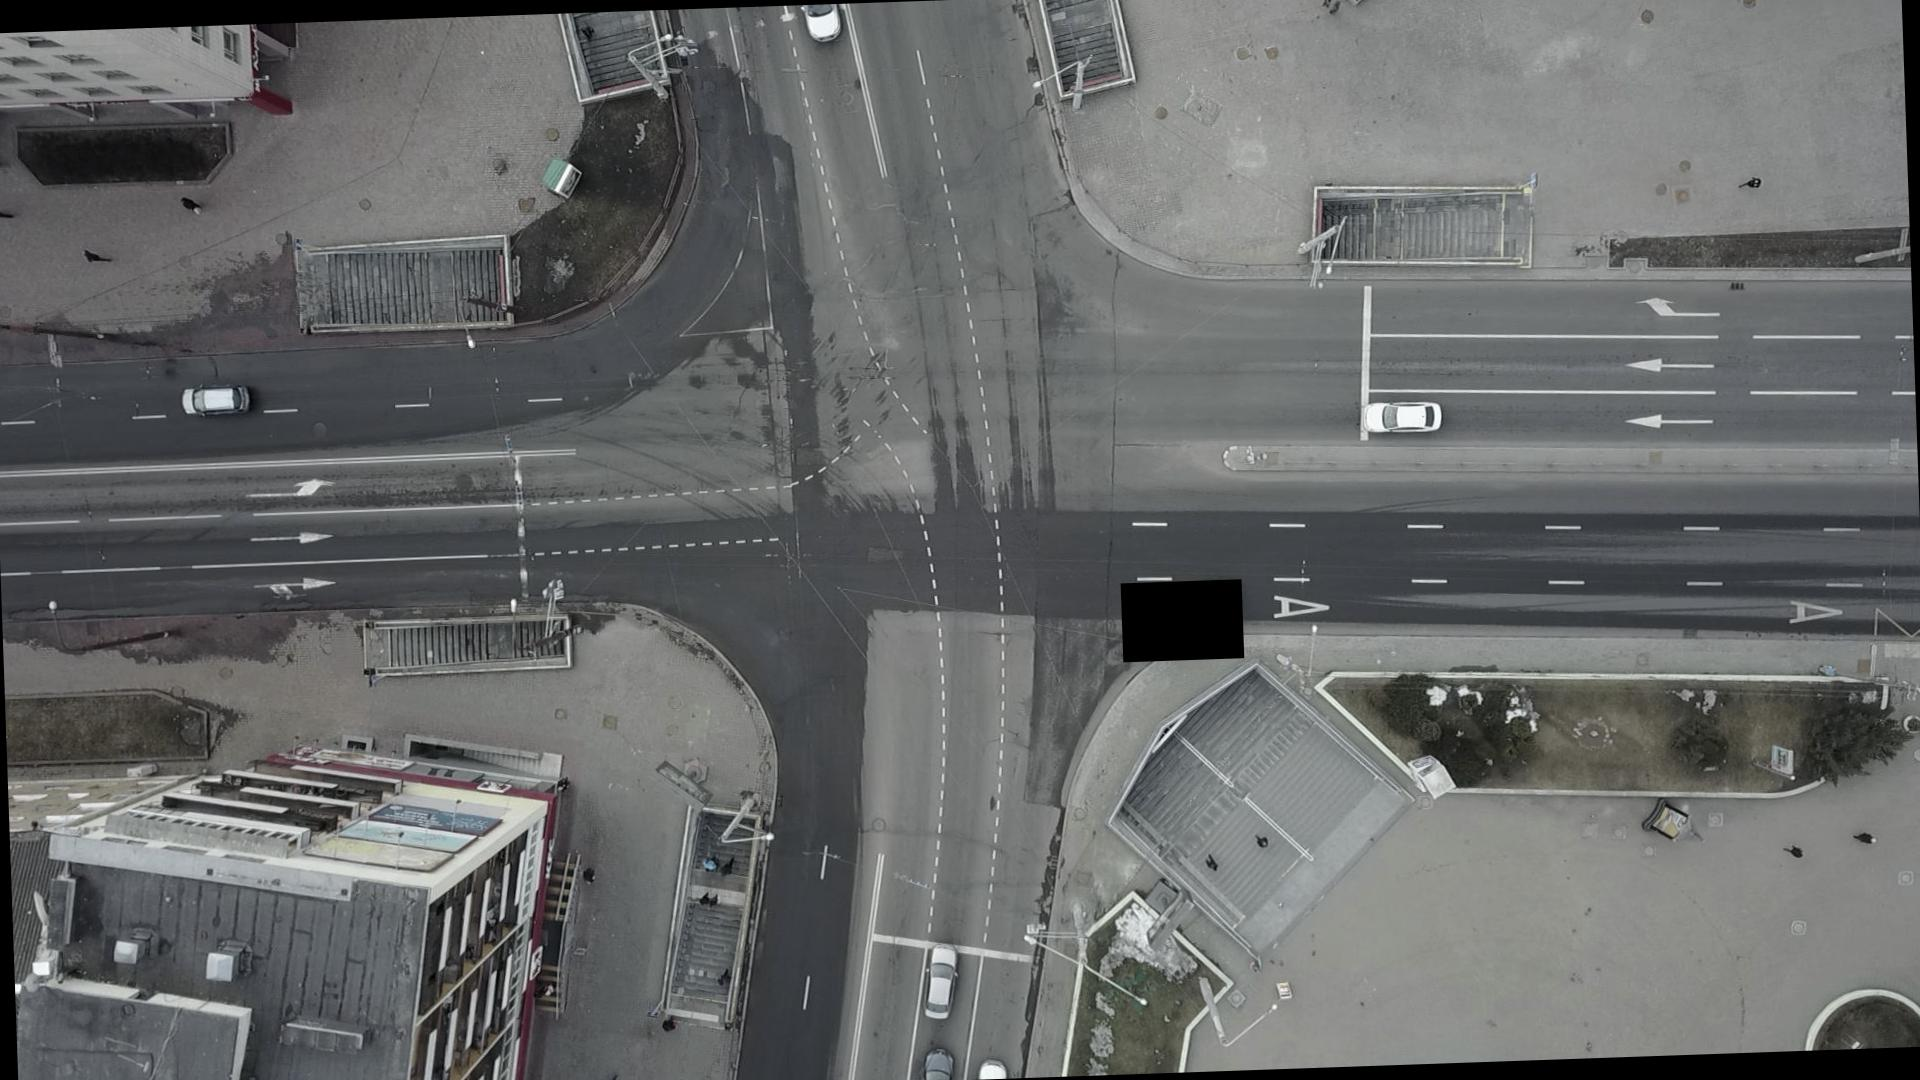vehicle: (919, 943, 961, 1022), (1361, 398, 1445, 436), (179, 382, 251, 419)
